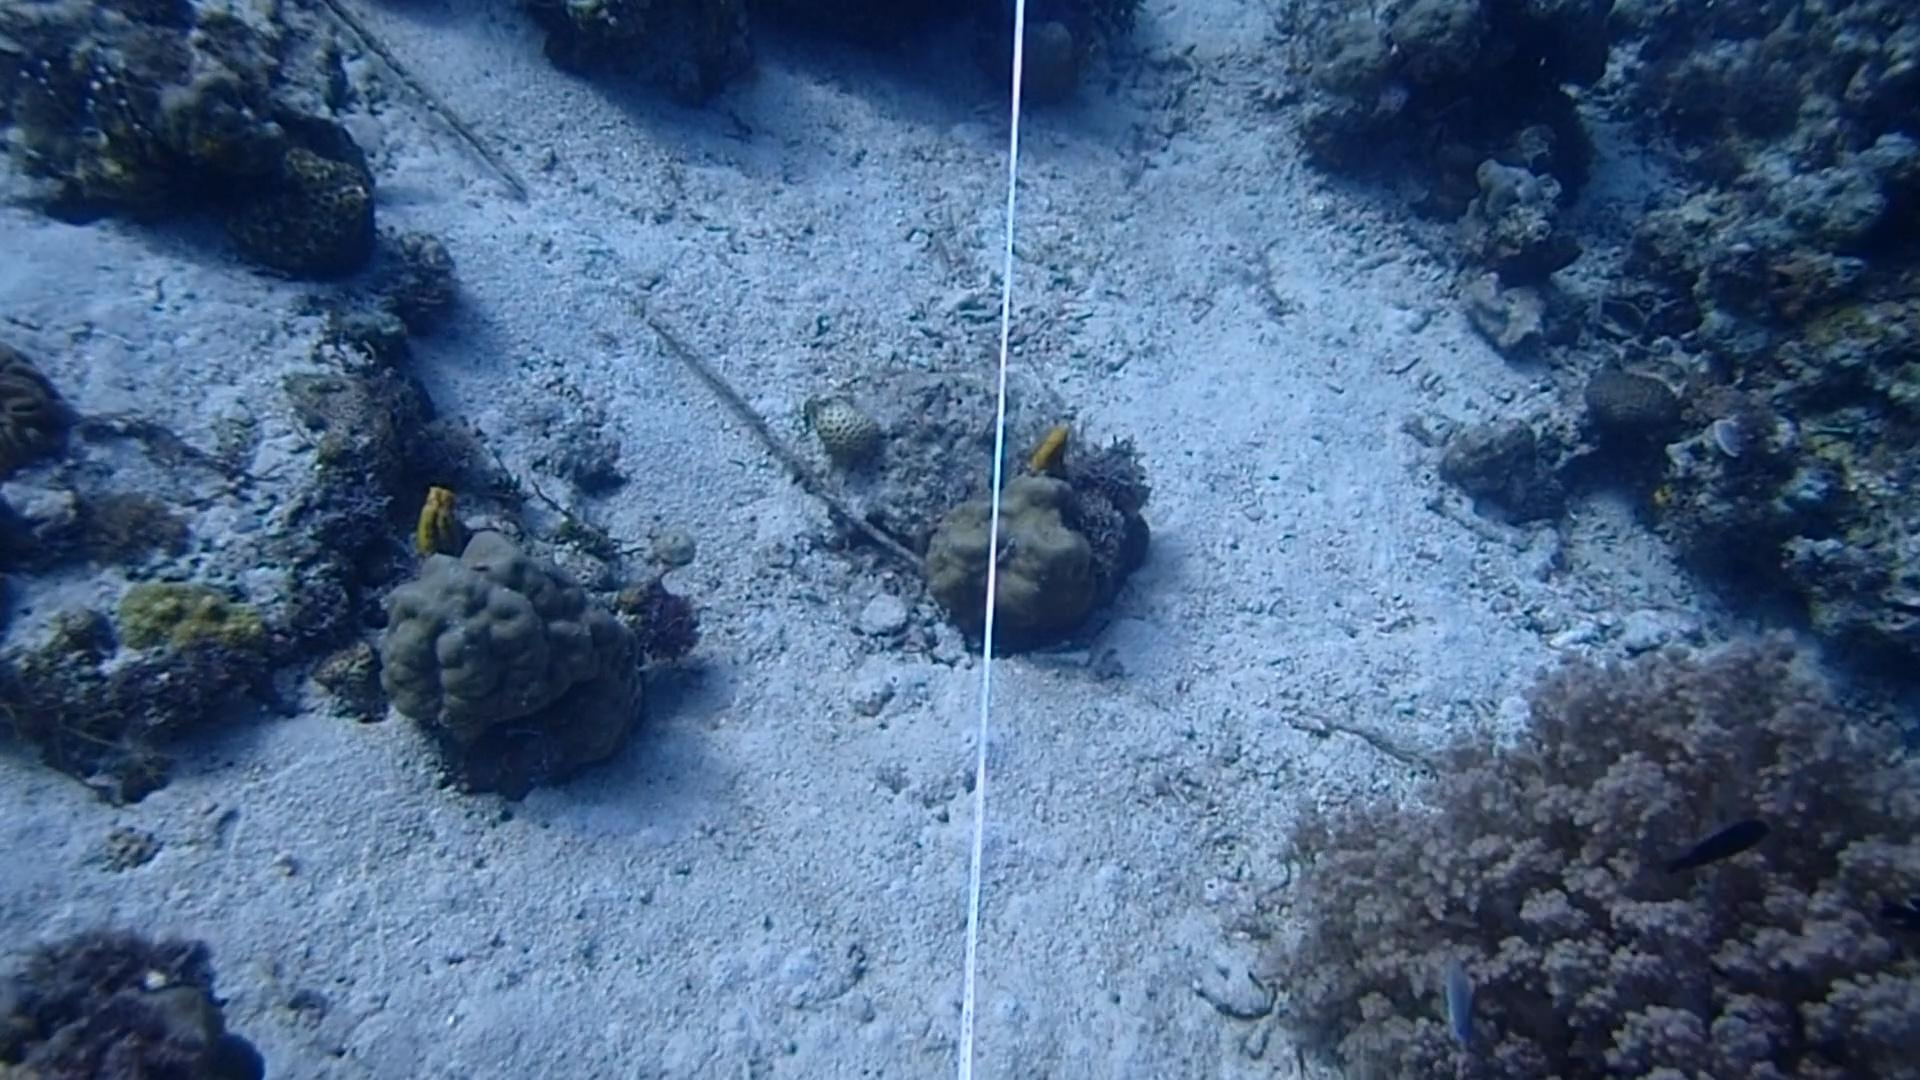Dark Fish: (1660, 803, 1760, 893)
Light Fish: (1419, 951, 1490, 1050)
